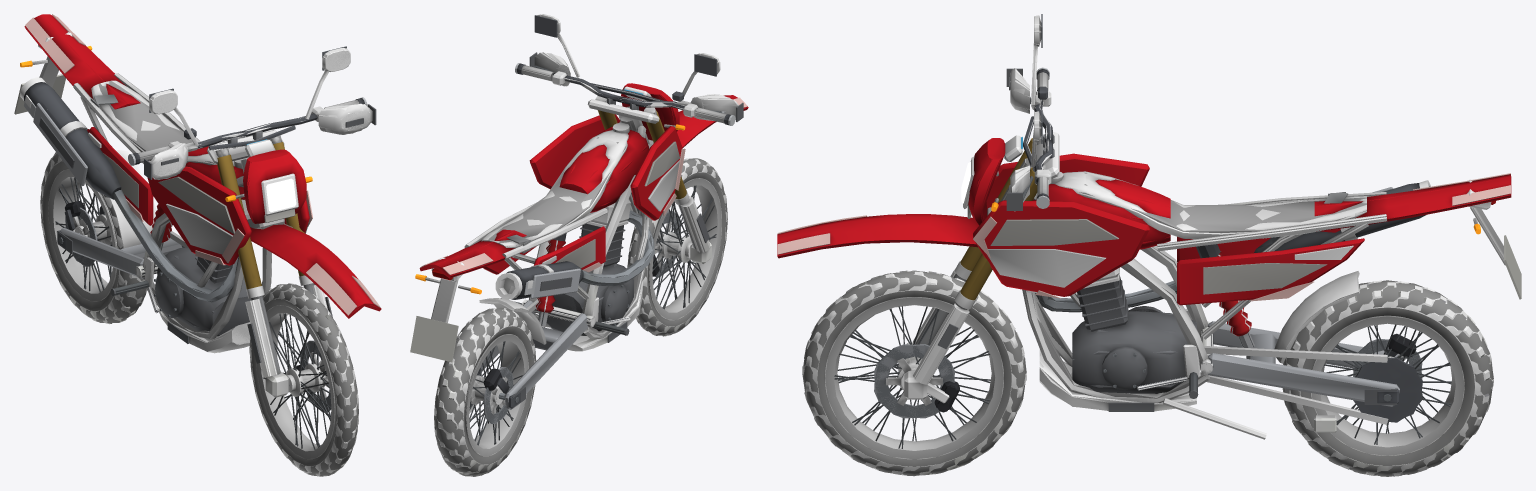
The model's file is bike15_crf250.glb.
The picture shows the model from 3 angles, left to right: view 1: azimuth 30°, elevation 25°; view 2: azimuth 150°, elevation 25°; view 3: azimuth 270°, elevation 25°; orthographic projection. The views are drawn at different scales.
Visible parts, largest first — view 1: body (×2), wheel_front (×2), wheel_rear (×2), handlebar (×2), fork_right, headlight, fork_left, disc_front, disc_rear; view 2: body (×2), wheel_rear (×2), wheel_front (×2), handlebar (×2), fork_right, disc_rear (×2), fork_left; view 3: body (×2), wheel_rear (×2), wheel_front (×2), handlebar (×2), disc_front (×2), fork_left, fork_right.
Part boxes in pixels (<box>): body (×2): <box>14,14,381,386</box>; wheel_front (×2): <box>249,283,358,476</box>; wheel_rear (×2): <box>40,152,147,324</box>; handlebar (×2): <box>128,46,376,363</box>; fork_right: <box>215,148,289,397</box>; headlight: <box>266,178,296,212</box>; fork_left: <box>269,135,327,378</box>; disc_front: <box>300,340,330,411</box>; disc_rear: <box>65,208,95,266</box>; body (×2): <box>410,83,748,413</box>; wheel_rear (×2): <box>434,307,536,476</box>; wheel_front (×2): <box>627,158,727,336</box>; handlebar (×2): <box>515,14,743,242</box>; fork_right: <box>644,107,711,263</box>; disc_rear (×2): <box>484,367,513,423</box>; fork_left: <box>595,96,663,245</box>; body (×2): <box>777,132,1521,439</box>; wheel_rear (×2): <box>1282,280,1493,476</box>; wheel_front (×2): <box>802,270,1026,476</box>; handlebar (×2): <box>938,14,1054,349</box>; disc_front (×2): <box>874,344,954,418</box>; fork_left: <box>904,164,1045,412</box>; fork_right: <box>906,134,1043,345</box>.
Size of the model in its own units: 0.934 by 1.37 by 2.27.
Materials: 29 (25 with a texture image).
